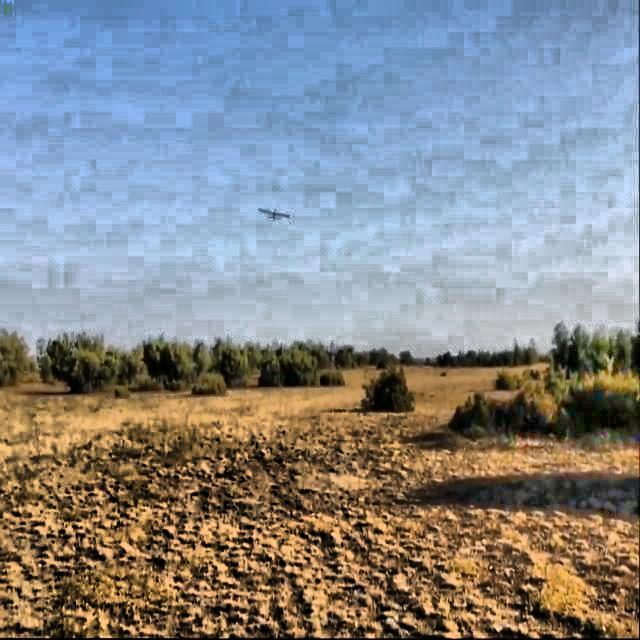iha: (267, 180, 272, 242)
